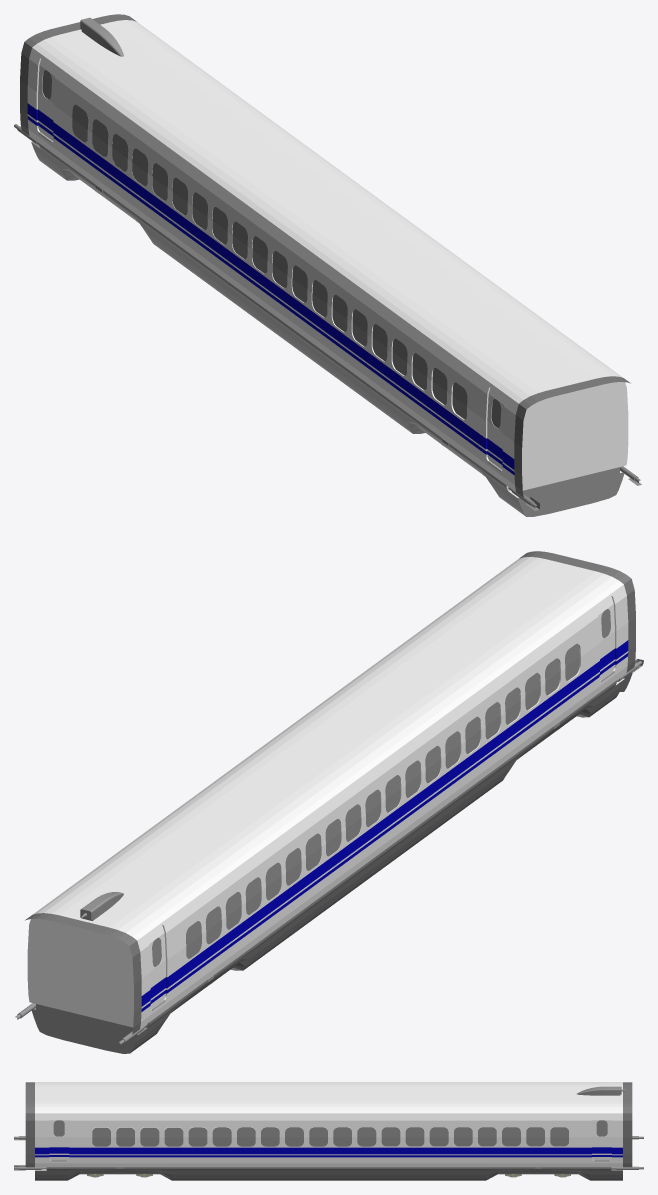
File: JR700-simple-car3.glb
The picture shows the model from 3 angles, top to bottom: view 1: azimuth 30°, elevation 25°; view 2: azimuth 150°, elevation 25°; view 3: azimuth 270°, elevation 25°; orthographic projection. The views are drawn at different scales.
Visible parts, largest first — view 1: コンポーネント#1, Component#4.001, Component#4, Component#2.001, Component#2.002, Object_49; view 2: コンポーネント#1, Component#4, Component#4.001, Component#2.002, Component#2.001; view 3: コンポーネント#1, Component#2.003, Component#2, Component#4.001, Component#4, Object_49, Component#3.018, Component#3.012, Component#3.031, Component#3.033, Component#3.035, Component#3.037 (+14 smaller).
Boxes of the visible parts, x1,y1,x2,y2 form: コンポーネント#1: (27,20,628,516); Component#4.001: (514,376,630,497); Component#4: (20,14,136,135); Component#2.001: (487,386,505,469); Component#2.002: (38,57,56,141); Object_49: (80,17,123,56); コンポーネント#1: (27,557,628,1053); Component#4: (25,913,141,1034); Component#4.001: (519,551,635,672); Component#2.002: (147,925,165,1008); Component#2.001: (596,596,614,679); コンポーネント#1: (35,1082,622,1180); Component#2.003: (49,1114,69,1159); Component#2: (592,1114,611,1159); Component#4.001: (25,1082,34,1167); Component#4: (623,1082,632,1167); Object_49: (577,1086,627,1095); Component#3.018: (357,1127,376,1146); Component#3.012: (429,1127,448,1146); Component#3.031: (212,1127,231,1146); Component#3.033: (188,1127,207,1146); Component#3.035: (164,1127,183,1146); Component#3.037: (140,1127,159,1146).
Bounding box in the file's own units: 3.42 × 3.88 × 26.78.
11 materials, 3 textured.
